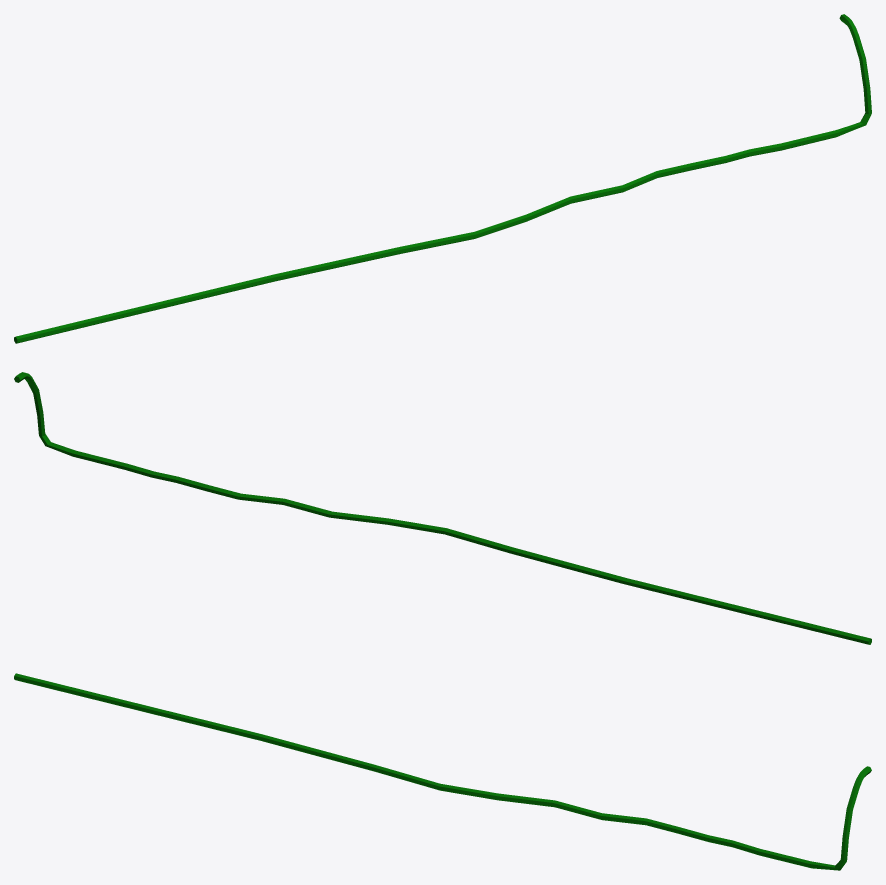
File: Hose.fbx
3 views of the same model, one above another, from view 1: azimuth 30°, elevation 25°; view 2: azimuth 150°, elevation 25°; view 3: azimuth 330°, elevation 25° (orthographic). The views are drawn at different scales.
Visible parts, largest first — view 1: pCylinder1; view 2: pCylinder1; view 3: pCylinder1.
Boxes of the visible parts, <box> form: pCylinder1: <box>14,14,871,343</box>; pCylinder1: <box>14,372,871,644</box>; pCylinder1: <box>14,673,871,870</box>.
Bounding box in the file's own units: 145 × 15.28 × 12.21.
